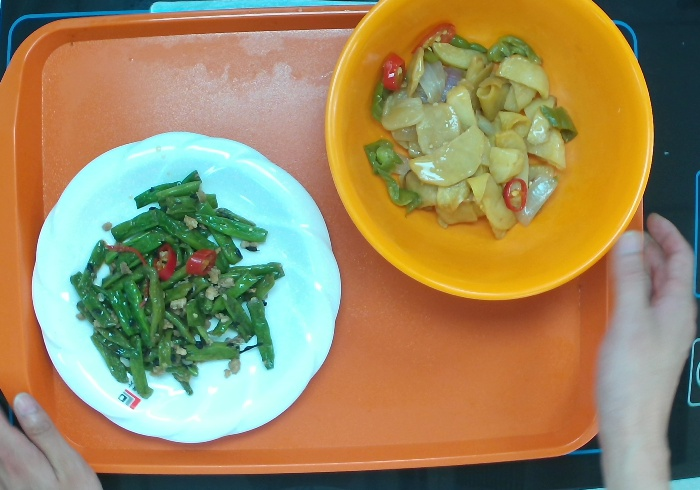ZNLD-Hua_Bian_Wan: (29, 133, 341, 441)
ZNLD-Ju_Se_Tang_Wan: (322, 1, 659, 301)
